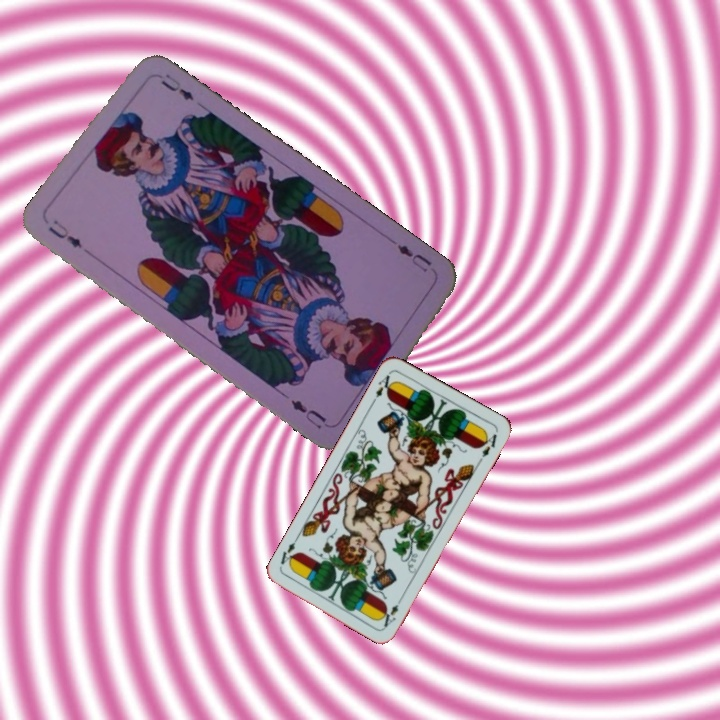EA: (368, 369, 398, 406), (380, 592, 405, 630)
EU: (388, 236, 435, 275), (44, 216, 85, 251)
